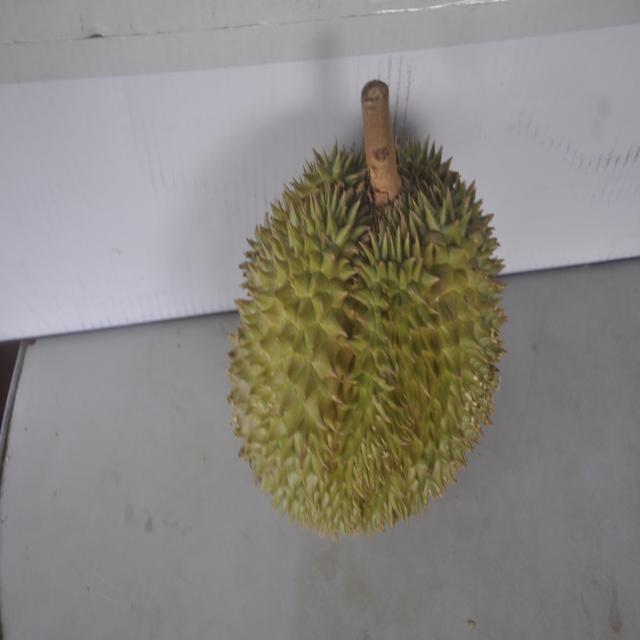mature: (226, 103, 502, 537)
